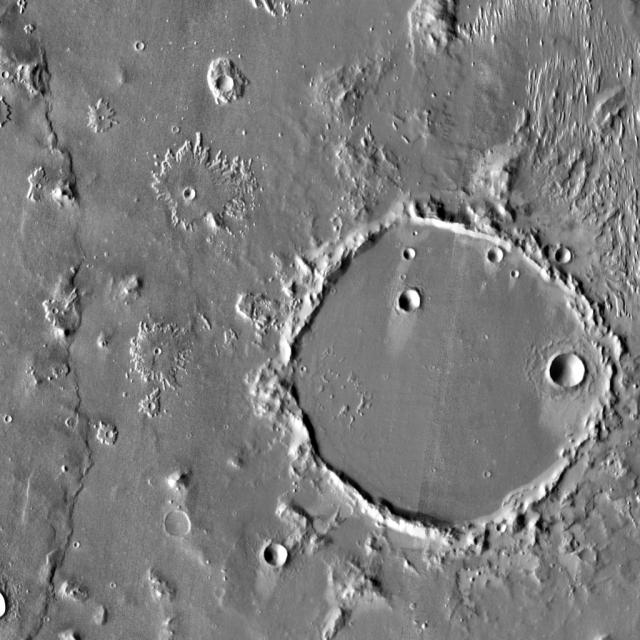crater: (292, 217, 606, 529), (552, 354, 588, 390), (167, 512, 194, 539), (266, 543, 288, 565), (400, 288, 418, 306), (582, 548, 600, 566), (216, 73, 232, 89), (492, 250, 508, 266), (558, 250, 574, 264), (501, 242, 514, 255), (183, 186, 195, 197), (405, 248, 415, 259), (500, 524, 510, 535), (5, 71, 13, 79), (140, 43, 148, 51), (514, 272, 522, 279), (102, 424, 109, 432), (2, 408, 9, 414), (481, 467, 487, 472)
